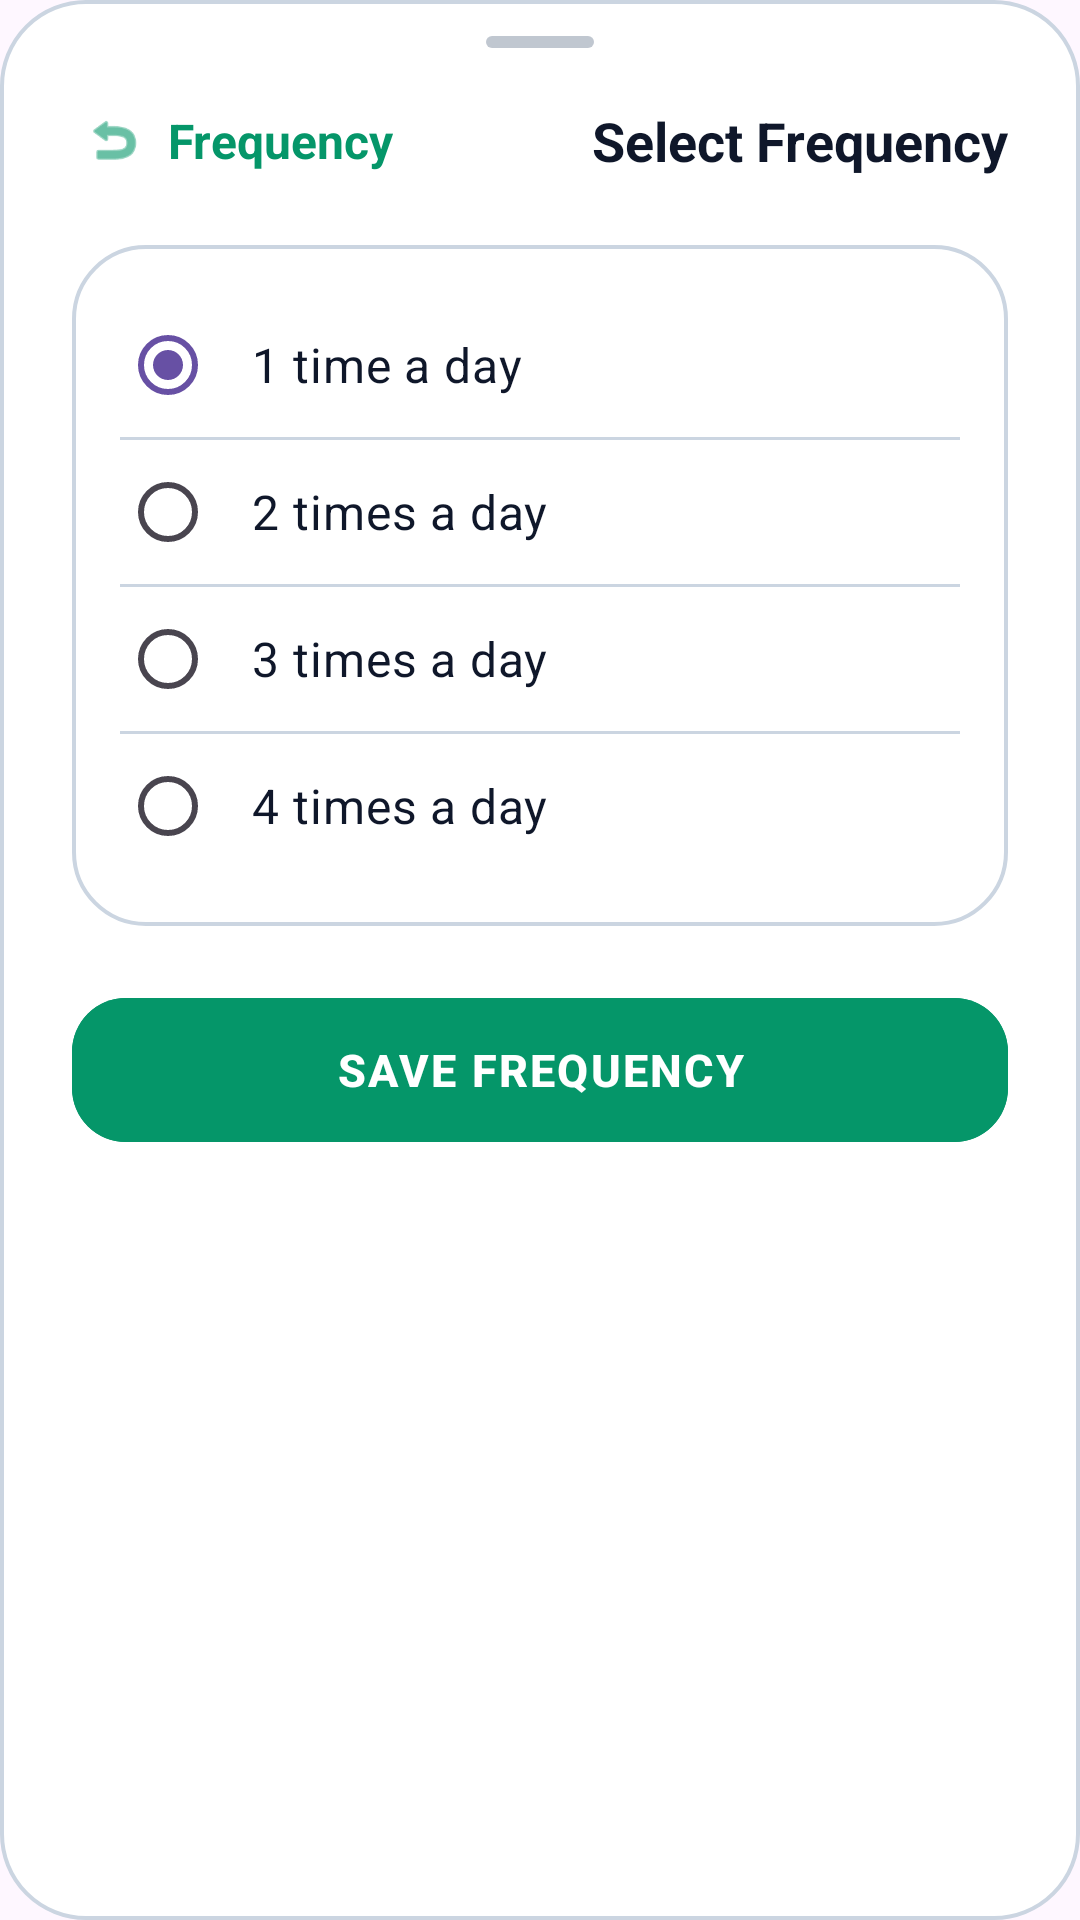

Named icons in this screenshot (1080*1920) and their bounding boxes, (x1=x1, y1=y1, x2=x2, y2=y2):
revert: (x1=93, y1=121, x2=137, y2=160)
